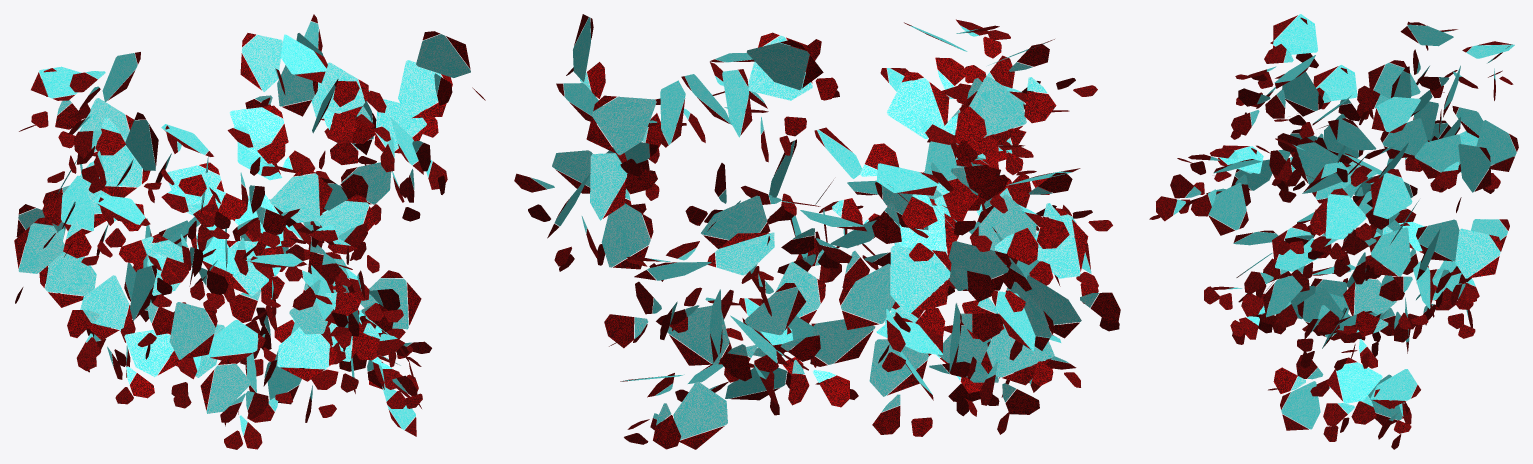
File: SM_GoldTree_Gold_01_GDH.fbx
3 renders of one model, left to right at view 1: azimuth 30°, elevation 25°; view 2: azimuth 150°, elevation 25°; view 3: azimuth 270°, elevation 25°, orthographic. The views are drawn at different scales.
Parts seen in each view (by area): view 1: SM_GoldTree_Gold_01_GDH; view 2: SM_GoldTree_Gold_01_GDH; view 3: SM_GoldTree_Gold_01_GDH.
Boxes of the visible parts, x1,y1,x2,y2 form: SM_GoldTree_Gold_01_GDH: (14,14,485,449); SM_GoldTree_Gold_01_GDH: (514,14,1120,449); SM_GoldTree_Gold_01_GDH: (1149,14,1518,449).
Size of the model in its own units: 431 by 356 by 366.
